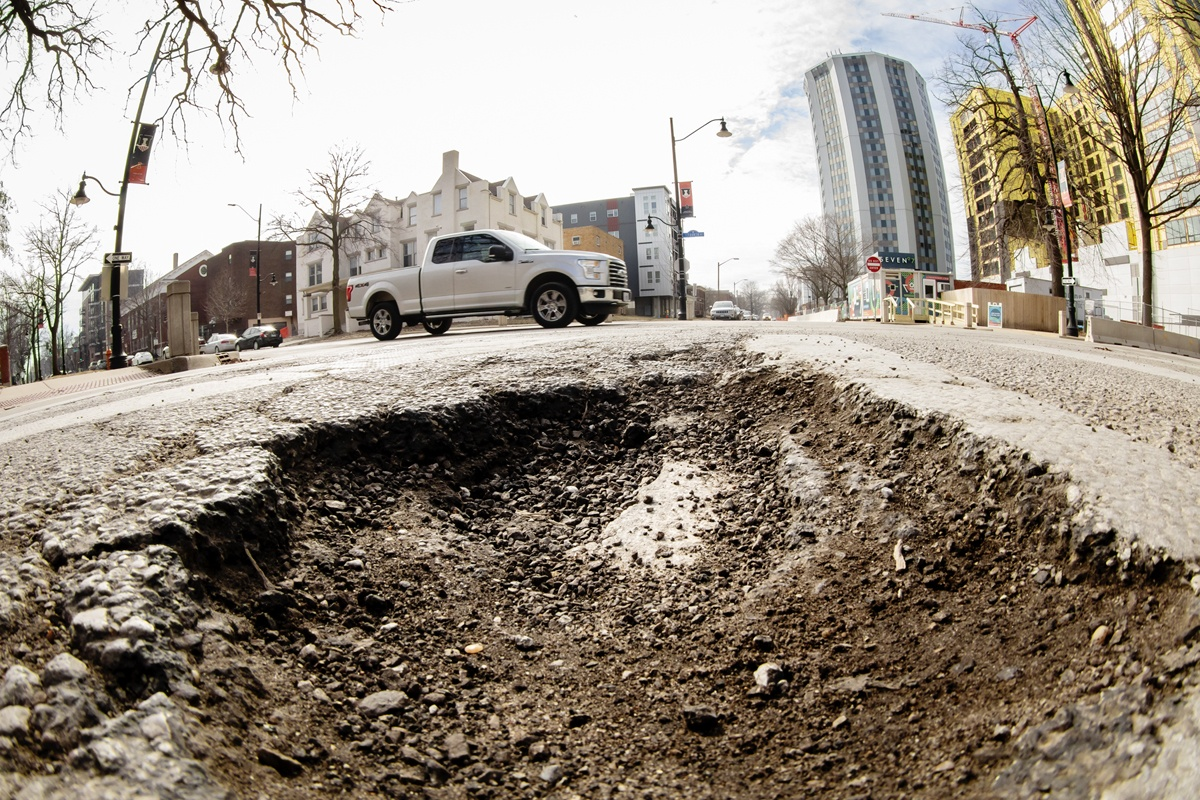pothole: (182, 291, 1180, 784)
